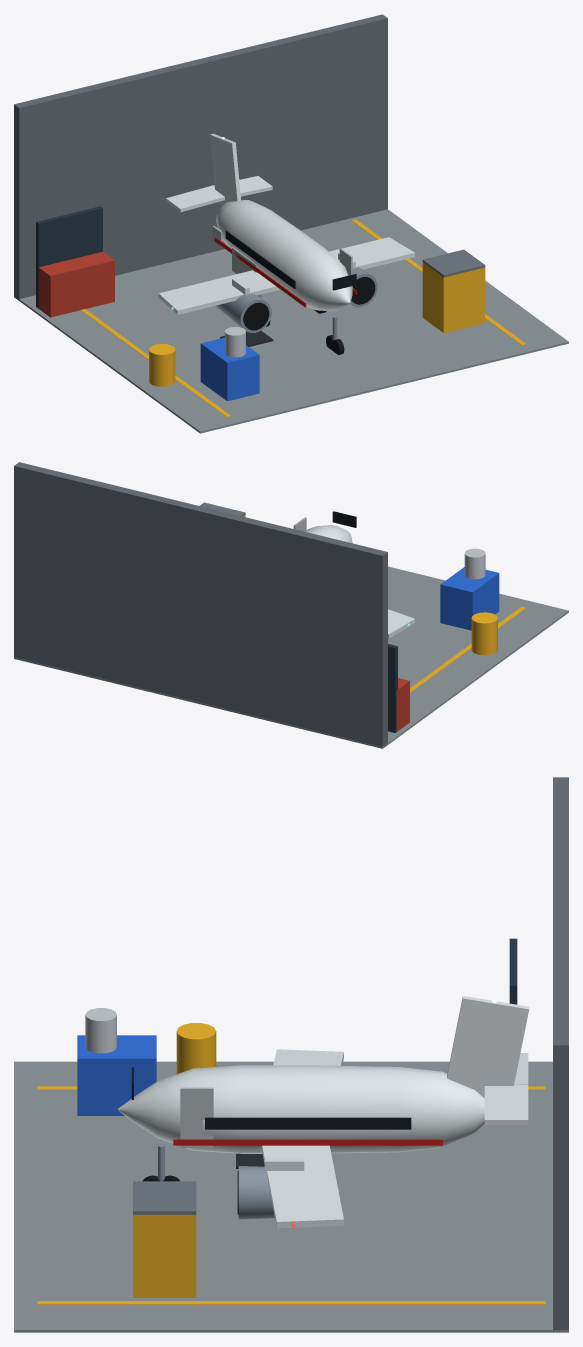
Rendered from equipment--depotHangarBay.glb.
3 views of the same model, one above another, from view 1: azimuth 30°, elevation 25°; view 2: azimuth 150°, elevation 25°; view 3: azimuth 270°, elevation 25° (orthographic). The views are drawn at different scales.
Visible parts, largest first — view 1: depotHangarBay:shell, fuselage, toolCrib, workStand, servicingCart, tailfin, wingR, engineR, wingL, spillKit, engineL; view 2: depotHangarBay:shell, servicingCart, toolCrib, spillKit, fuselage, wingR; view 3: depotHangarBay:shell, fuselage, tailfin, workStand, servicingCart, wingL, engineL, spillKit, doorFwd, wingR.
Part boxes in pixels (<box>): depotHangarBay:shell: <box>14,14,568,433</box>; fuselage: <box>215,200,356,311</box>; toolCrib: <box>36,206,114,317</box>; workStand: <box>422,249,485,332</box>; servicingCart: <box>200,327,259,401</box>; tailfin: <box>166,133,272,212</box>; wingR: <box>158,270,280,314</box>; engineR: <box>215,278,271,332</box>; wingL: <box>329,237,414,269</box>; spillKit: <box>149,344,175,386</box>; engineL: <box>338,252,377,307</box>; depotHangarBay:shell: <box>14,462,568,748</box>; servicingCart: <box>440,548,499,630</box>; toolCrib: <box>388,644,409,732</box>; spillKit: <box>471,612,497,655</box>; fuselage: <box>304,511,356,543</box>; wingR: <box>388,609,414,638</box>; depotHangarBay:shell: <box>14,777,568,1332</box>; fuselage: <box>118,1065,484,1153</box>; tailfin: <box>447,996,529,1124</box>; workStand: <box>133,1181,196,1297</box>; servicingCart: <box>77,1008,156,1115</box>; wingL: <box>261,1145,343,1228</box>; engineL: <box>237,1158,304,1219</box>; spillKit: <box>176,1023,216,1073</box>; doorFwd: <box>180,1087,213,1147</box>; wingR: <box>273,1049,343,1065</box>.
Bounding box in the file's own units: 8 × 4 × 7.
